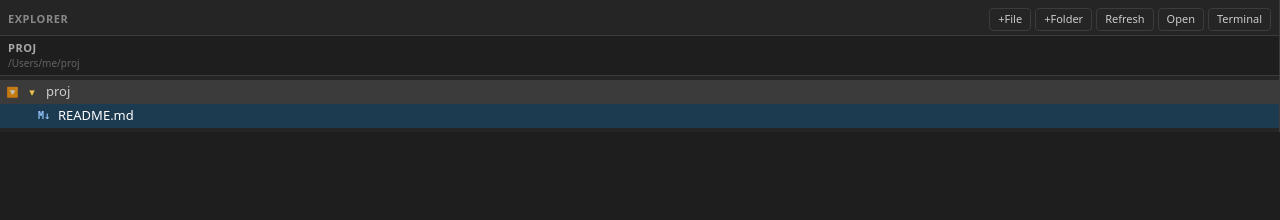
Test: Sidebar create file / folder › rejects paths that already exist in the store
This screenshot has width=1280, height=220.
Step 1. Click the button with test id "new-file" → {"x": 1010, "y": 19}, box left=989, top=8, right=1031, bottom=30
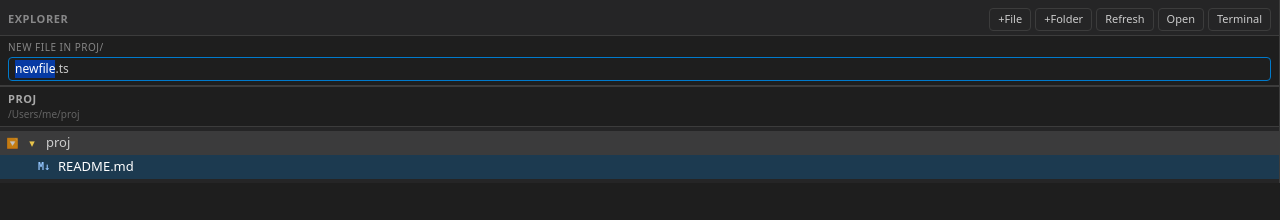
Step 2. Replace the text in the field with test id "create-input" with "README.md" → {"x": 640, "y": 68}, box left=8, top=56, right=1271, bottom=80
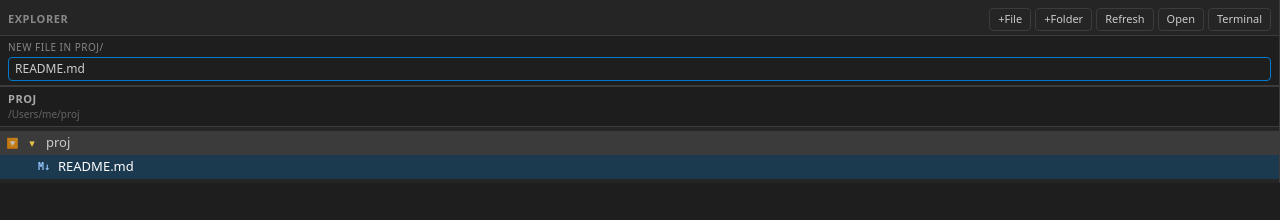
Step 3. Press Enter in the field with test id "create-input", box left=8, top=56, right=1271, bottom=80
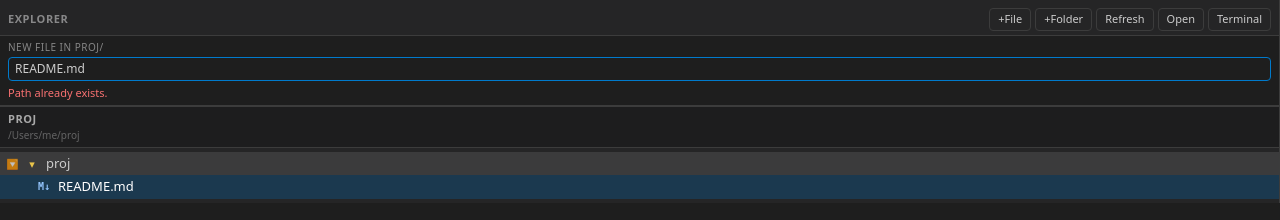
Result: the message with test id "create-error" shows "already exists" at left=8, top=84, right=108, bottom=100
